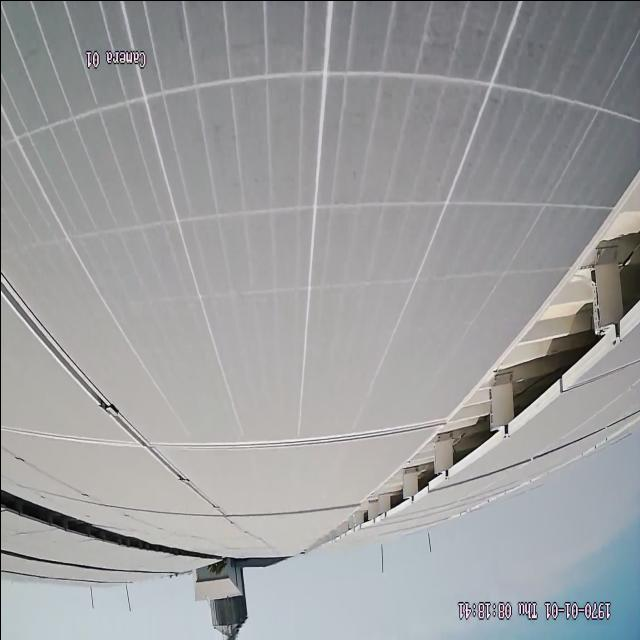interior panel: (349, 164, 640, 530), (2, 488, 158, 549)
outher panel: (1, 267, 209, 507)
